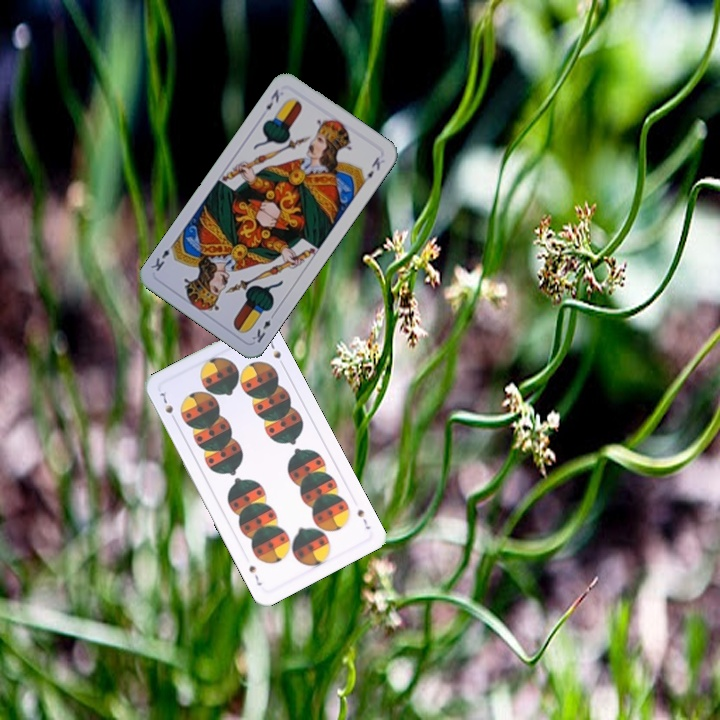EK: (248, 308, 278, 346), (262, 85, 282, 112)
S7: (156, 386, 179, 425), (353, 505, 373, 532)
